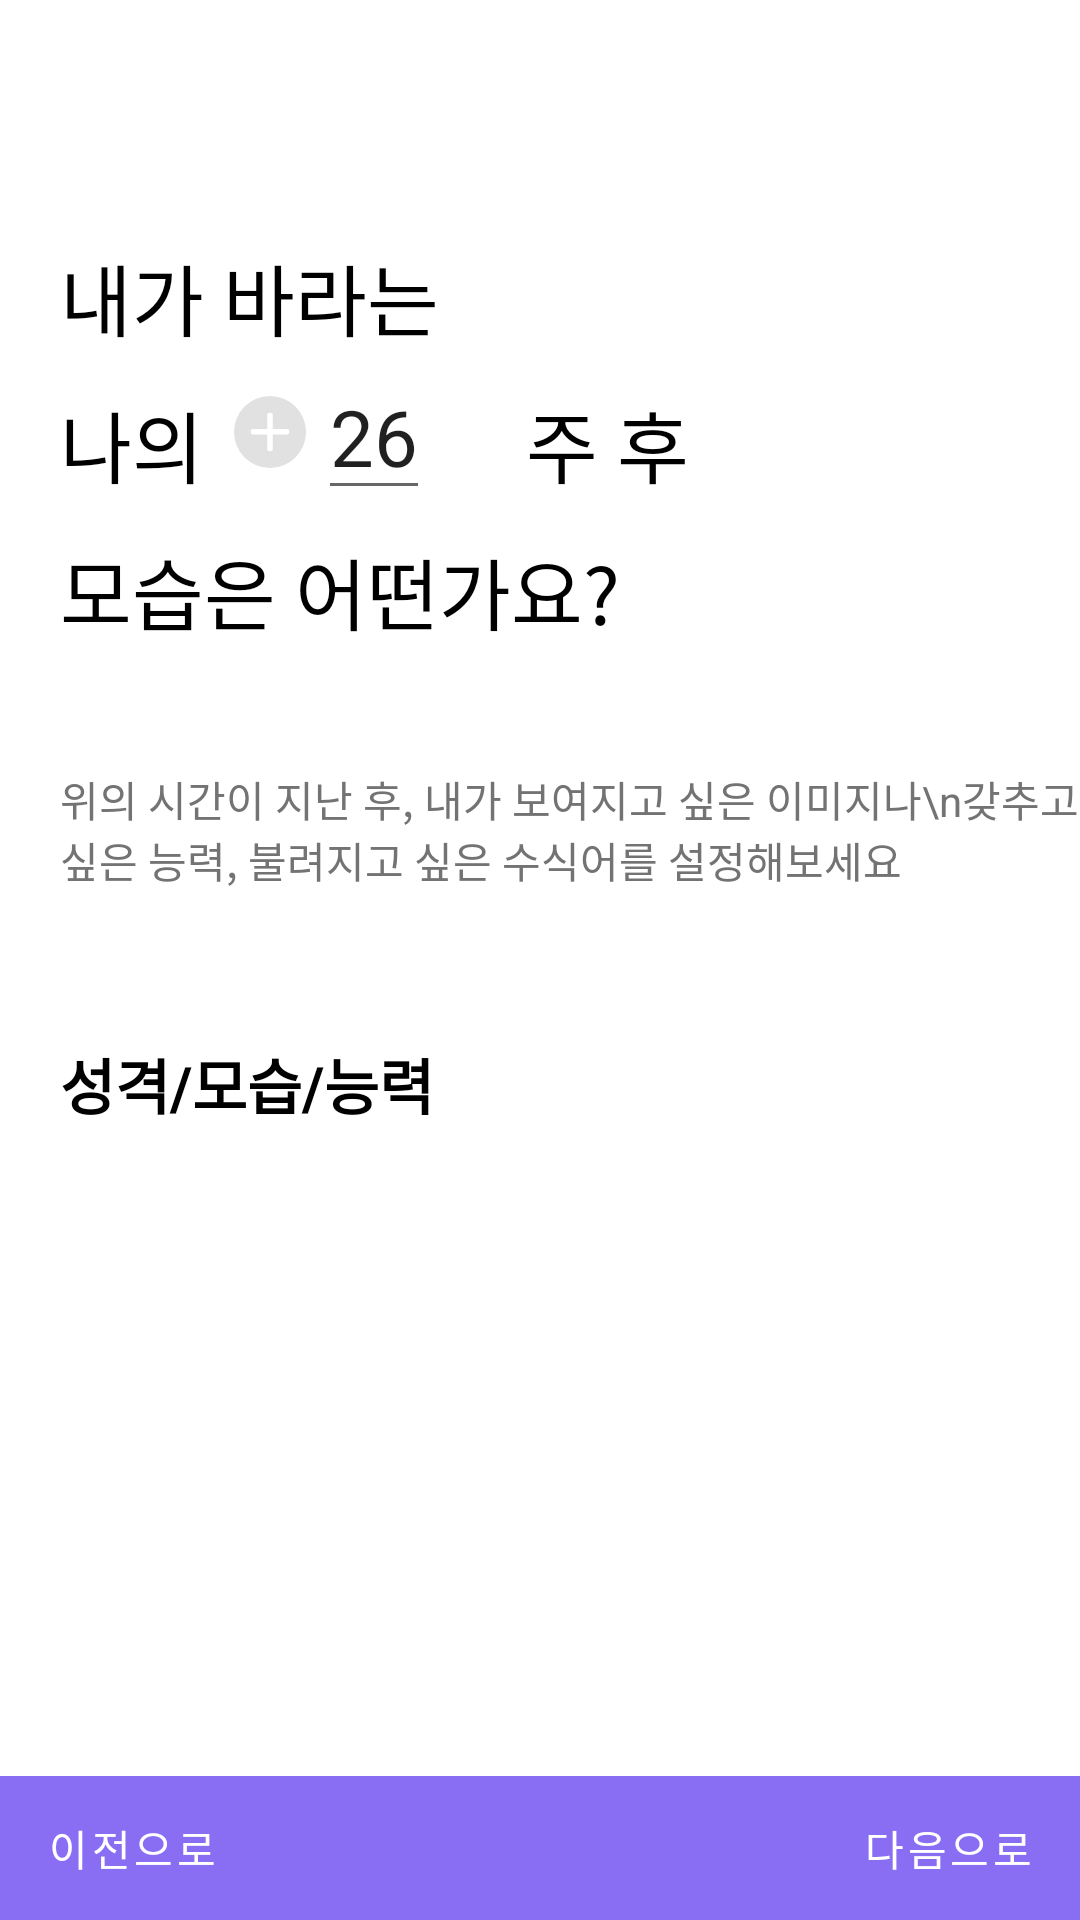

Screen size 1080x1920. Icon name, then its center in pixels as [x,y]:
plus: [270,432]
